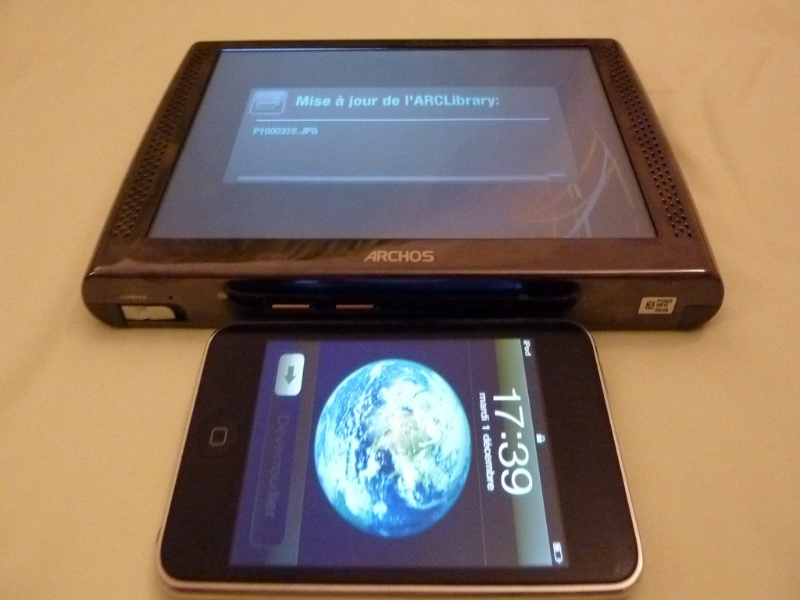cellphone: (173, 321, 653, 600)
